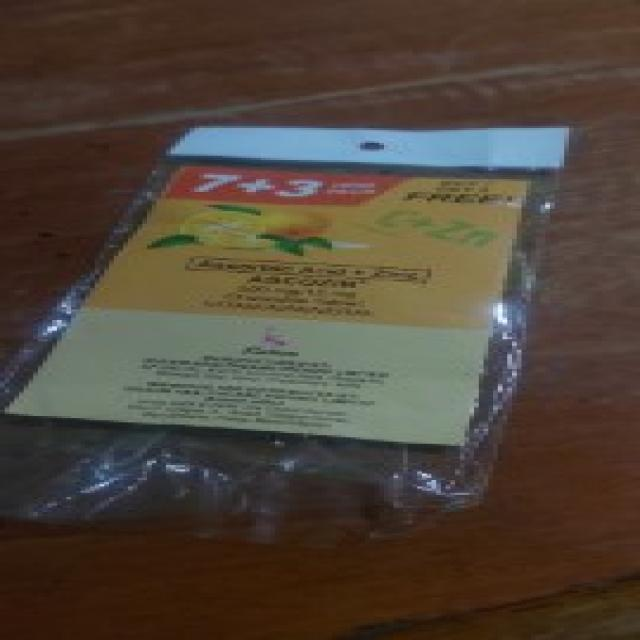Cacat: (0, 123, 574, 533)
